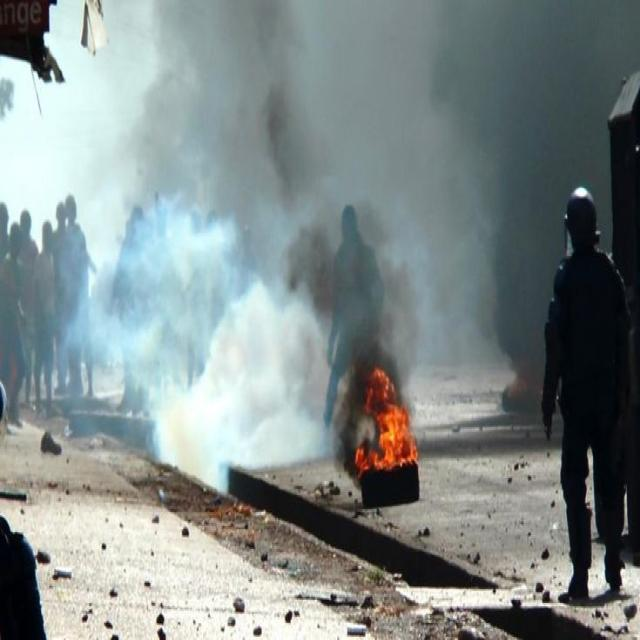Fire: (357, 372, 419, 473)
Smoke: (152, 202, 286, 448)
